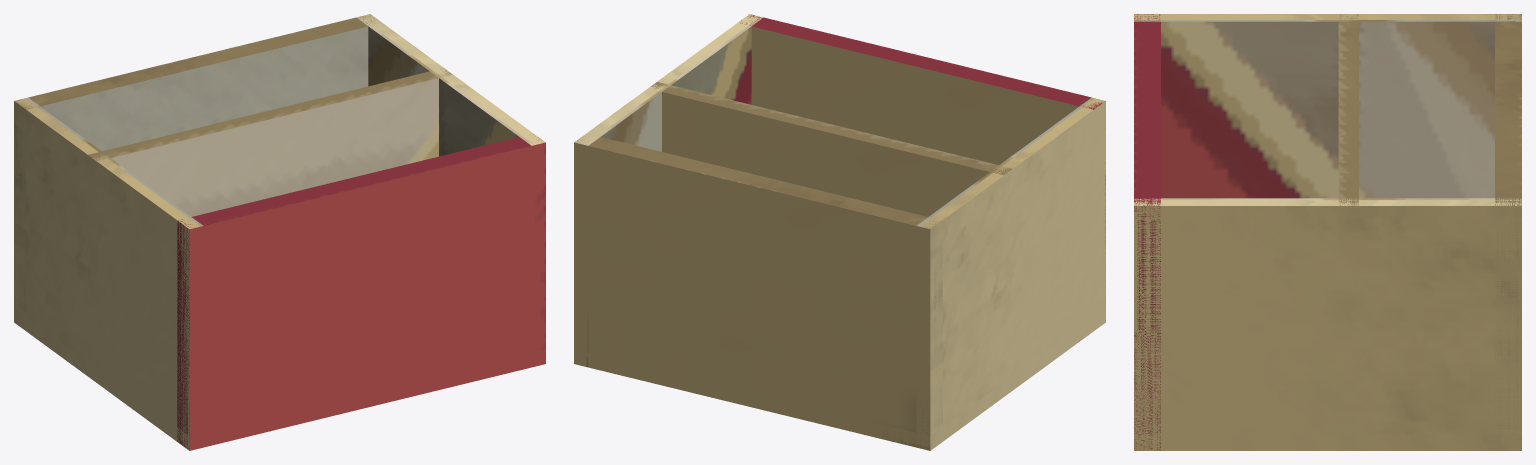
File: pz_g016_shop_gas2go_low_shelves.obj
3 views of the same model, side by side, from view 1: azimuth 30°, elevation 25°; view 2: azimuth 150°, elevation 25°; view 3: azimuth 270°, elevation 25° (orthographic). The views are drawn at different scales.
Visible parts, largest first — view 1: physical_component_5_z+, physical_component_1_x-, physical_component_4_z+, physical_component_3_z+, physical_component_0_z+, physical_component_2_x-, physical_component_3_y+, physical_component_5_y+, physical_component_4_y+, physical_component_2_z+, physical_component_1_z+, physical_component_0_x- (+5 smaller); view 2: physical_component_3_z-, physical_component_1_x-, physical_component_5_z-, physical_component_4_z-, physical_component_0_z-, physical_component_2_x-, physical_component_5_y+, physical_component_3_y+, physical_component_4_y+, physical_component_1_z-, physical_component_2_z-, physical_component_0_x- (+3 smaller); view 3: physical_component_2_x+, physical_component_1_x+, physical_component_0_x+, physical_component_3_y+, physical_component_5_y+, physical_component_4_y+, physical_component_3_x+, physical_component_5_x+, physical_component_1_y+, physical_component_2_y+, physical_component_4_x+.
Part boxes in pixels (x1,y1,x2,y2): physical_component_5_z+: [189, 143, 545, 450]; physical_component_1_x-: [14, 101, 189, 448]; physical_component_4_z+: [111, 78, 438, 216]; physical_component_3_z+: [41, 26, 368, 151]; physical_component_0_z+: [189, 349, 545, 450]; physical_component_2_x-: [368, 26, 518, 156]; physical_component_3_y+: [17, 14, 378, 109]; physical_component_5_y+: [178, 137, 543, 228]; physical_component_4_y+: [88, 68, 452, 160]; physical_component_2_z+: [531, 142, 545, 367]; physical_component_1_z+: [189, 226, 203, 450]; physical_component_0_x-: [14, 308, 189, 450]; physical_component_3_z-: [574, 142, 930, 450]; physical_component_1_x-: [930, 101, 1105, 449]; physical_component_5_z-: [751, 26, 1078, 164]; physical_component_4_z-: [662, 92, 989, 216]; physical_component_0_z-: [574, 349, 930, 450]; physical_component_2_x-: [601, 26, 751, 151]; physical_component_5_y+: [740, 14, 1104, 109]; physical_component_3_y+: [575, 134, 941, 228]; physical_component_4_y+: [651, 82, 1012, 175]; physical_component_1_z-: [916, 226, 930, 450]; physical_component_2_z-: [574, 142, 588, 367]; physical_component_0_x-: [930, 308, 1105, 450]; physical_component_2_x+: [1134, 206, 1521, 450]; physical_component_1_x+: [1161, 21, 1494, 198]; physical_component_0_x+: [1134, 434, 1521, 450]; physical_component_3_y+: [1495, 14, 1521, 205]; physical_component_5_y+: [1134, 14, 1160, 205]; physical_component_4_y+: [1338, 14, 1358, 205]; physical_component_3_x+: [1495, 206, 1521, 450]; physical_component_5_x+: [1134, 206, 1160, 450]; physical_component_1_y+: [1134, 14, 1521, 21]; physical_component_2_y+: [1134, 198, 1521, 205]; physical_component_4_x+: [1338, 206, 1358, 450].
Size of the model in its own units: 1.01 by 0.6 by 0.8611.
1 material, 1 textured.
